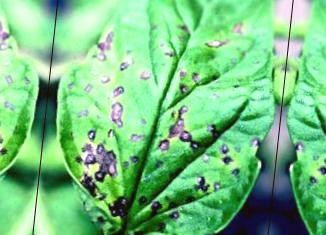Tomato leaf bacterial spot: (39, 0, 284, 235)
